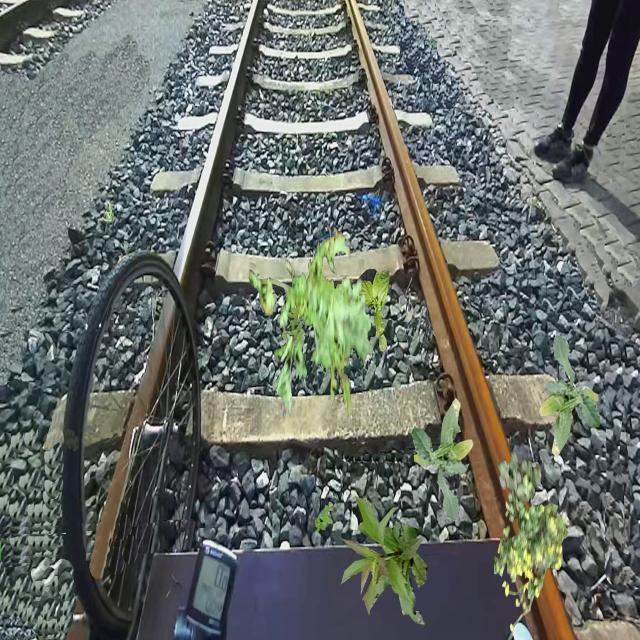Plant: (249, 224, 374, 420), (339, 496, 428, 626), (494, 493, 569, 633), (411, 398, 474, 522), (539, 334, 602, 458), (354, 268, 389, 352), (498, 450, 542, 516), (282, 307, 306, 348), (314, 501, 334, 534), (102, 202, 116, 222)
